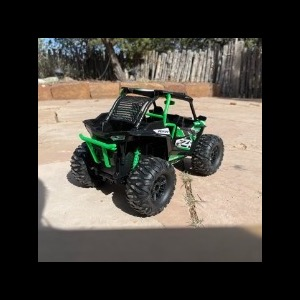polaris: (69, 87, 227, 219)
